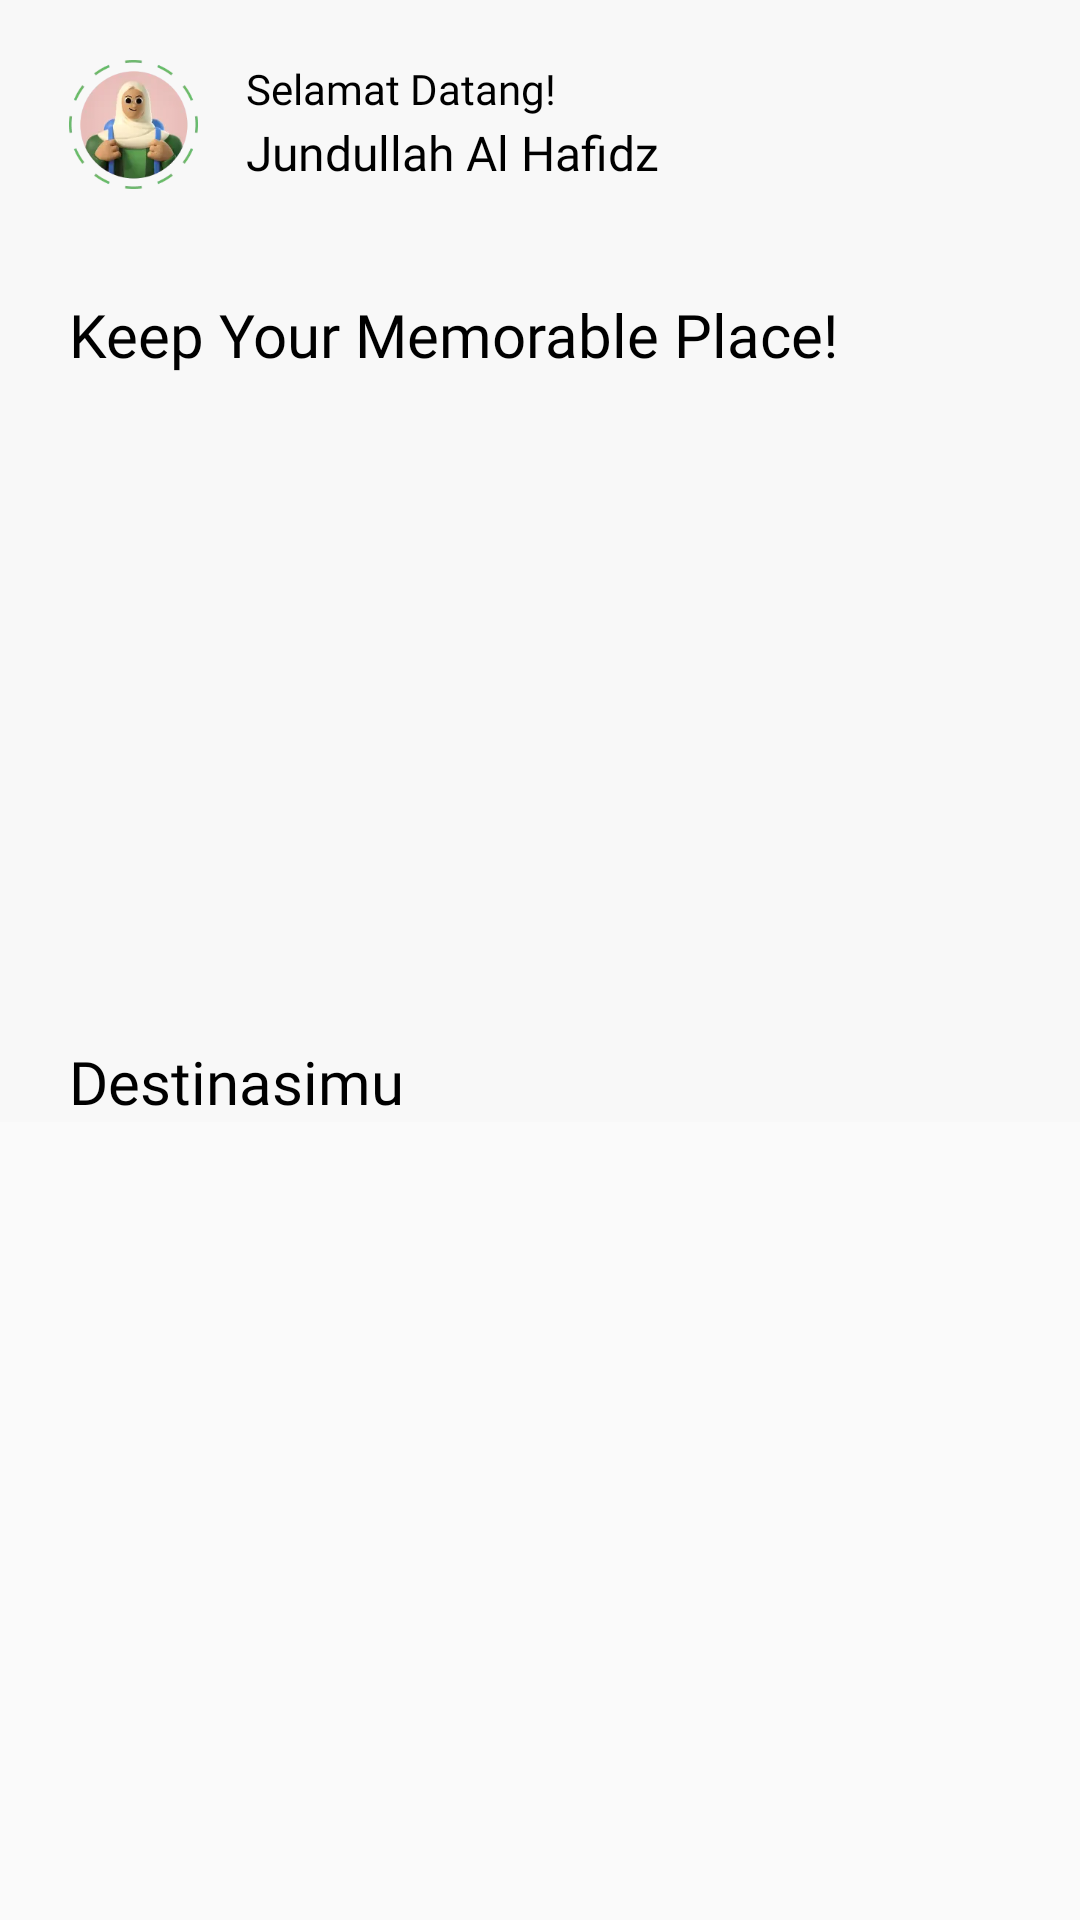

Named icons in this screenshot (1080px x 1920px) and their centers, [x,y]:
photo: [133,124]
